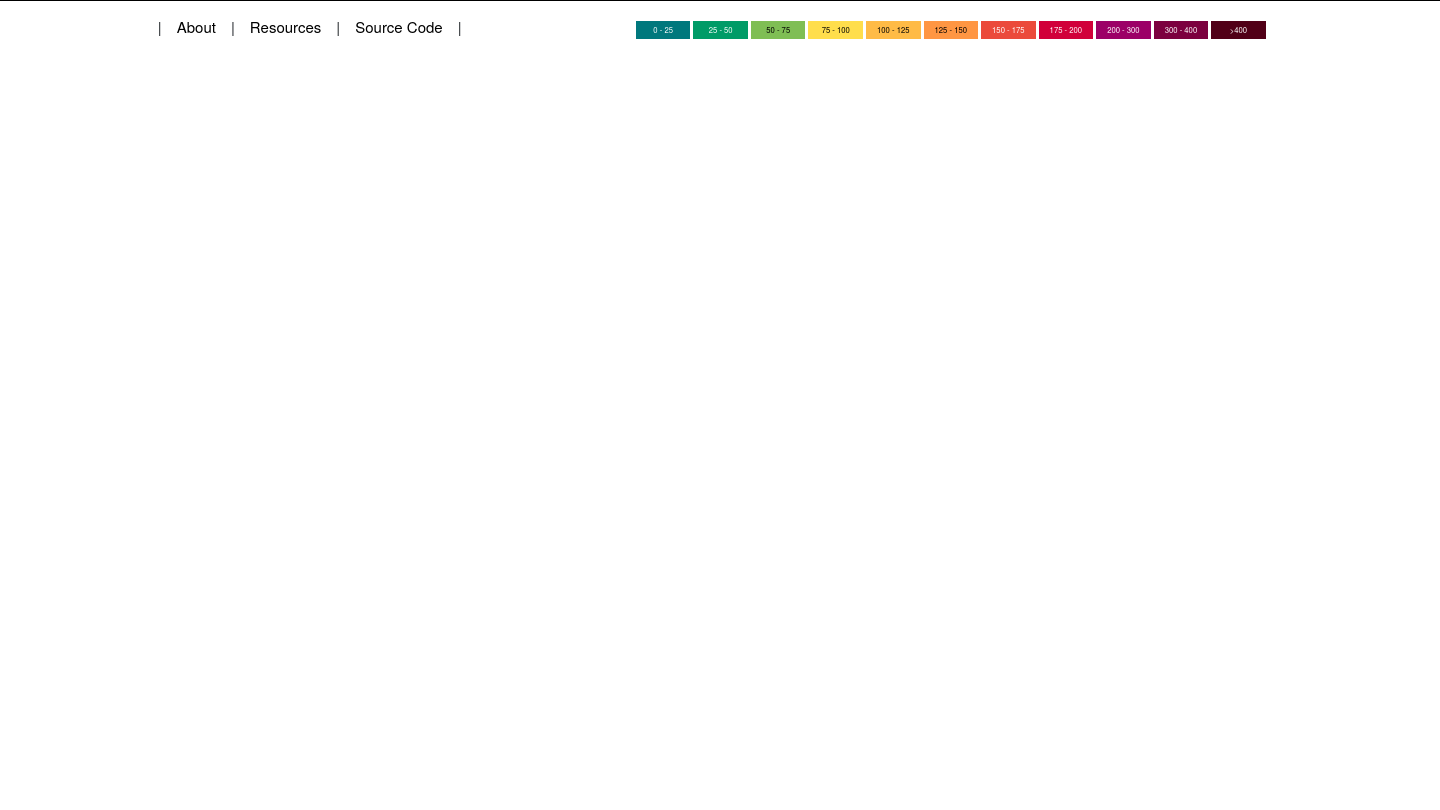
Test case: Footer component › opens modal when AQI level button is clicked
Note: Get the first AQI level button and click it
Click the button with test id "aqi-level" showing "0 - 25".
click(663, 30)  # box [636, 21, 690, 38]
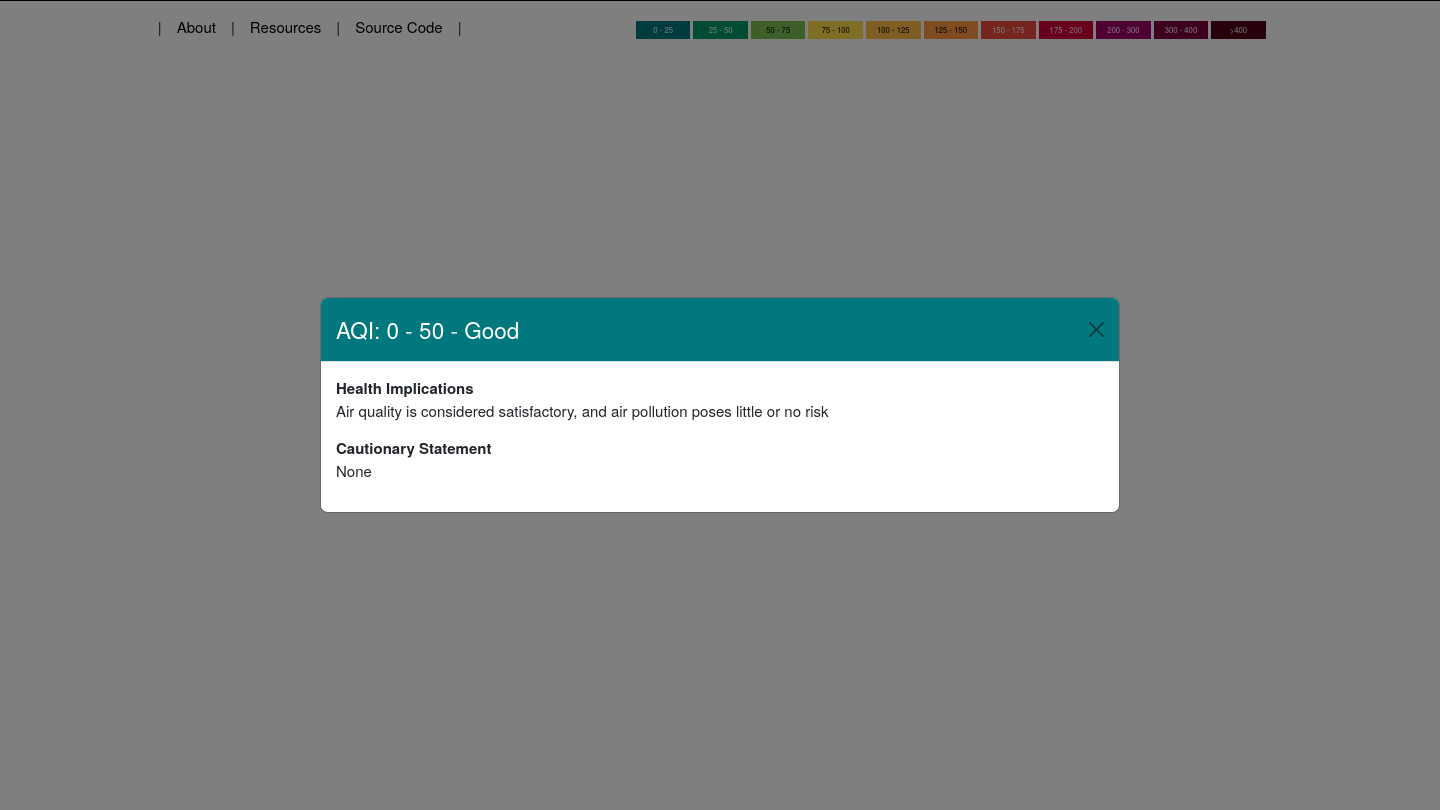
Expected: the element with test id "popup" is shown, [320, 297, 1120, 513]
